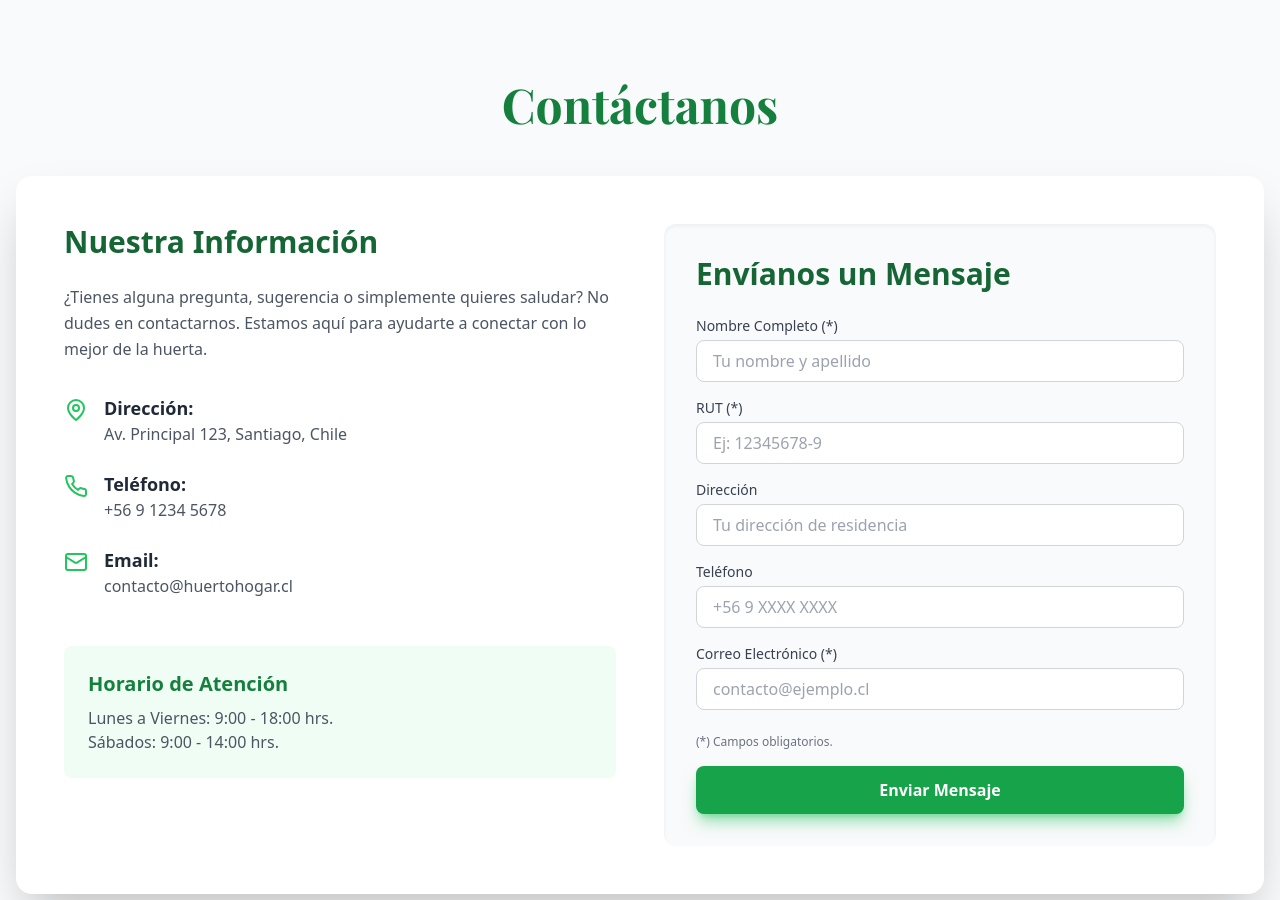
Test: Componente Contacto › debería mostrar error con RUT corto
The image size is (1280, 900).
Type "123" into the field labelled "RUT (*)" at x=940, y=443, box [696,422,1184,464]
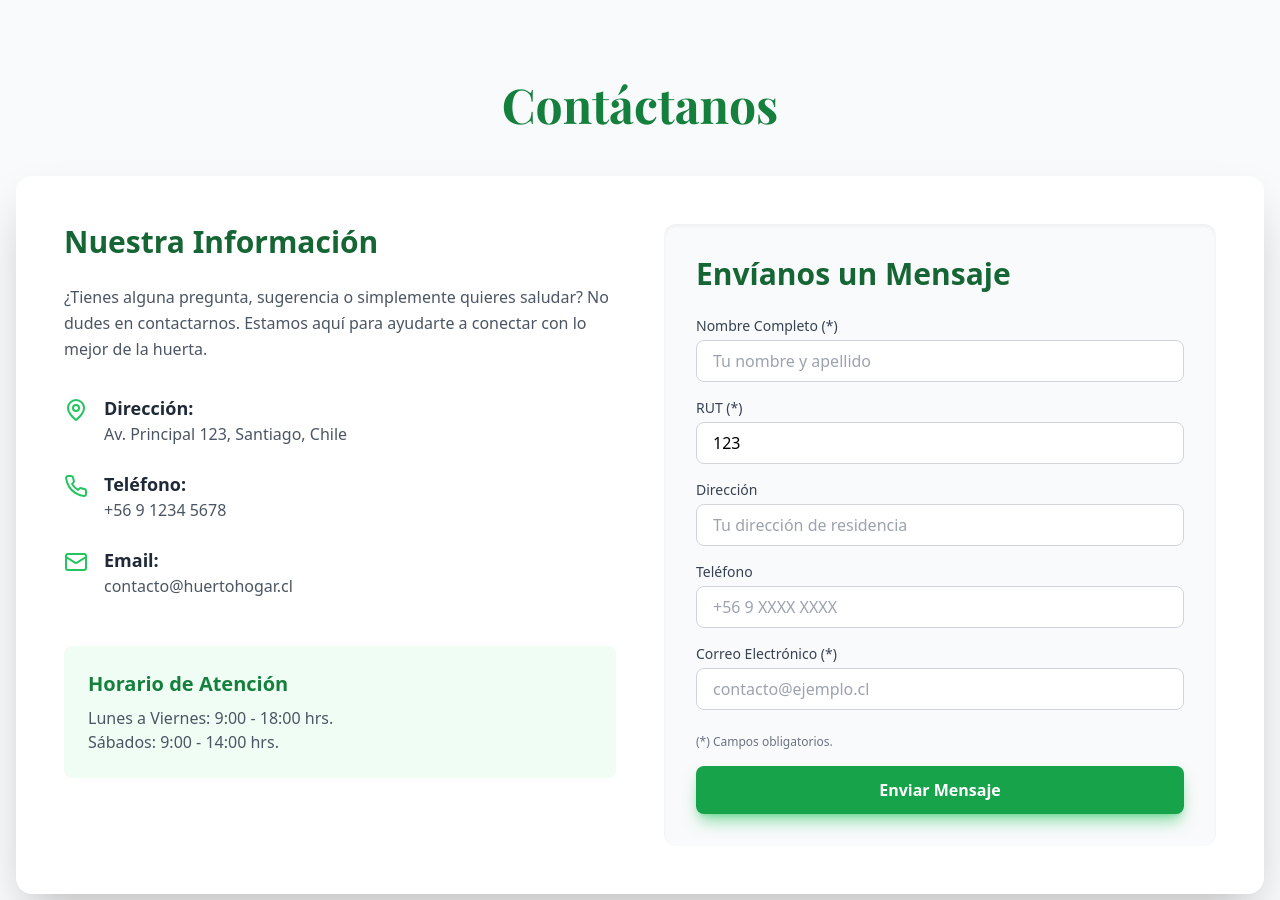
Click the button "Enviar Mensaje" at x=940, y=790, box [696,766,1184,814]
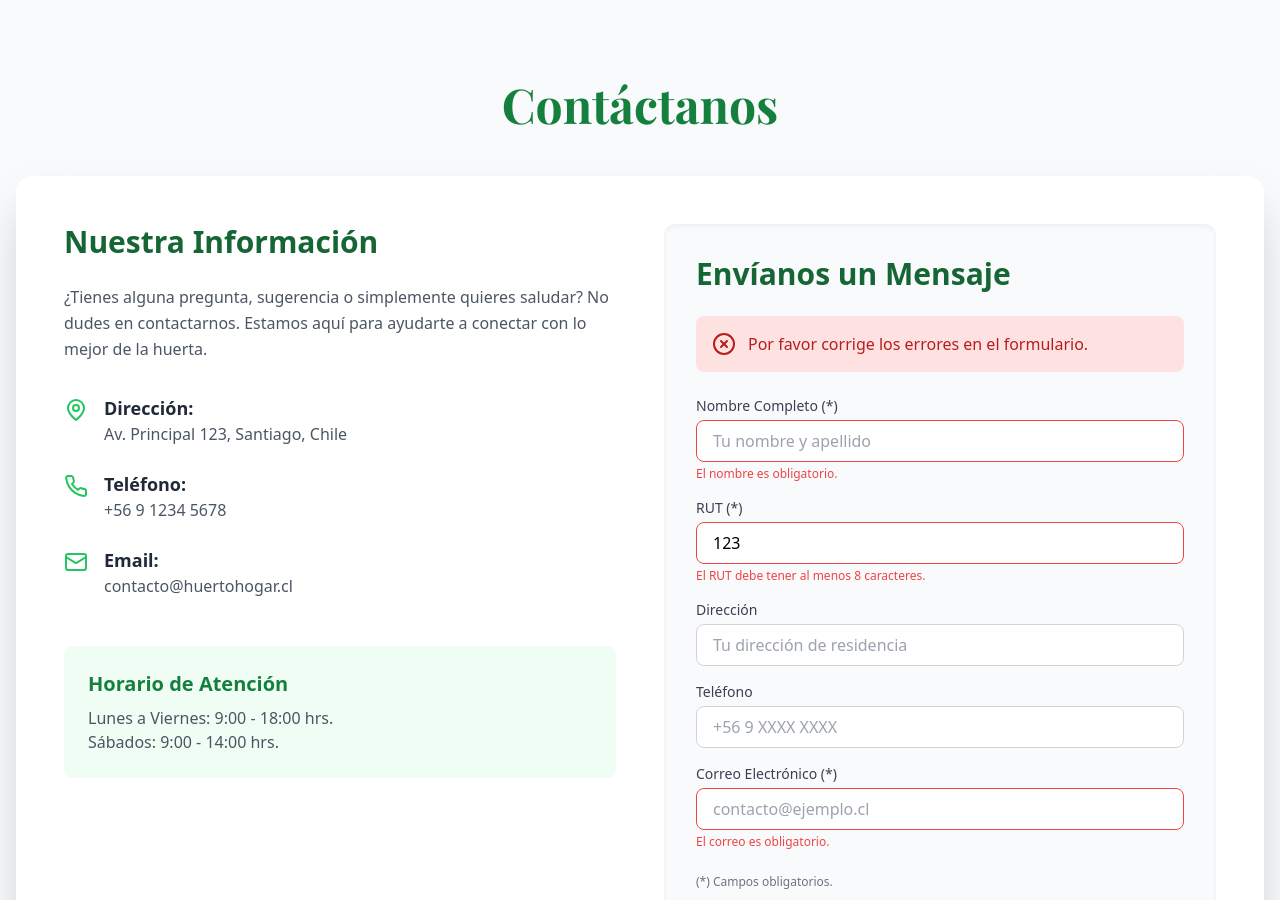
Expected: the text "El RUT debe tener al menos 8 caracteres." is shown, [696,567,925,584]
